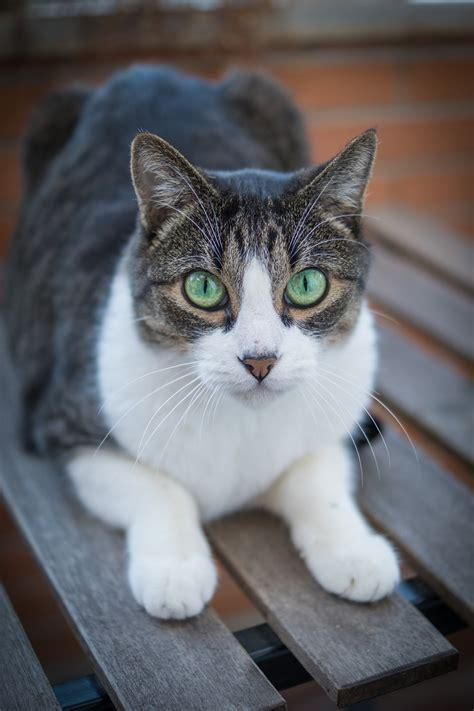cat: (9, 66, 396, 621)
